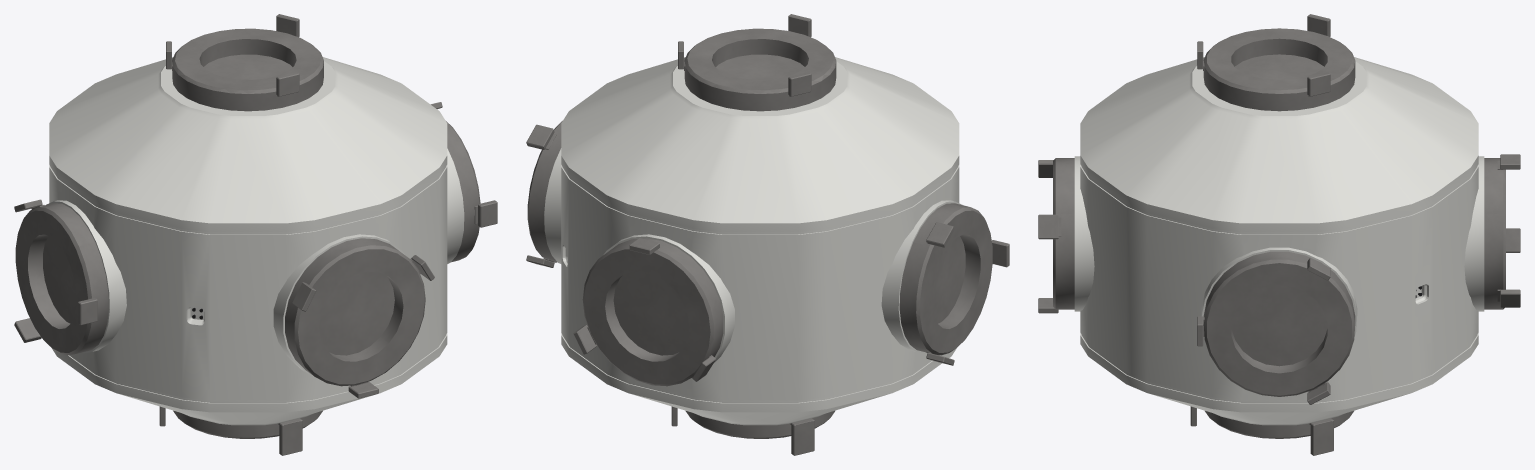
The model's file is ax_station_03_node6.glb.
The picture shows the model from 3 angles, left to right: view 1: azimuth 30°, elevation 25°; view 2: azimuth 150°, elevation 25°; view 3: azimuth 270°, elevation 25°; orthographic projection.
Parts seen in each view (by area): view 1: pressure_hull, port_4, port_3, port_top, hatch_door_6, port_1, port_3_pedestal, hatch_door_5, hatch_door_2, port_4_pedestal, port_bottom, port_1_pedestal (+5 smaller); view 2: pressure_hull, port_2, port_3, port_top, hatch_door_4, port_1, port_3_pedestal, hatch_door_5, hatch_door_2, port_2_pedestal, port_1_pedestal, port_bottom (+5 smaller); view 3: pressure_hull, port_1, port_top, hatch_door_3, port_4, port_2, port_2_pedestal, port_4_pedestal, hatch_door_2, port_bottom, port_2_petals, port_1_pedestal (+4 smaller).
Boxes of the visible parts, x1=… form: pressure_hull: x1=49, y1=57, x2=447, y2=425; port_4: x1=285, y1=238, x2=425, y2=386; port_3: x1=15, y1=203, x2=108, y2=355; port_top: x1=172, y1=28, x2=323, y2=111; hatch_door_6: x1=319, y1=271, x2=394, y2=355; port_1: x1=446, y1=121, x2=480, y2=262; port_3_pedestal: x1=46, y1=200, x2=126, y2=353; hatch_door_5: x1=43, y1=236, x2=75, y2=323; hatch_door_2: x1=203, y1=54, x2=292, y2=79; port_4_pedestal: x1=273, y1=234, x2=405, y2=377; port_bottom: x1=173, y1=410, x2=322, y2=438; port_1_pedestal: x1=447, y1=148, x2=464, y2=263; pressure_hull: x1=561, y1=57, x2=959, y2=425; port_2: x1=582, y1=238, x2=723, y2=386; port_3: x1=899, y1=203, x2=992, y2=355; port_top: x1=684, y1=28, x2=836, y2=111; hatch_door_4: x1=613, y1=271, x2=689, y2=355; port_1: x1=527, y1=121, x2=562, y2=261; port_3_pedestal: x1=881, y1=200, x2=962, y2=353; hatch_door_5: x1=932, y1=236, x2=965, y2=323; hatch_door_2: x1=716, y1=54, x2=804, y2=79; port_2_pedestal: x1=603, y1=234, x2=734, y2=362; port_1_pedestal: x1=544, y1=148, x2=561, y2=263; port_bottom: x1=685, y1=410, x2=834, y2=438; pressure_hull: x1=1080, y1=57, x2=1478, y2=425; port_1: x1=1203, y1=251, x2=1355, y2=396; port_top: x1=1203, y1=28, x2=1355, y2=111; hatch_door_3: x1=1231, y1=285, x2=1327, y2=366; port_4: x1=1053, y1=158, x2=1074, y2=309; port_2: x1=1484, y1=158, x2=1505, y2=309; port_2_pedestal: x1=1464, y1=156, x2=1484, y2=311; port_4_pedestal: x1=1074, y1=156, x2=1094, y2=311; hatch_door_2: x1=1235, y1=54, x2=1323, y2=79; port_bottom: x1=1205, y1=411, x2=1353, y2=438; port_2_petals: x1=1497, y1=154, x2=1520, y2=307; port_1_pedestal: x1=1201, y1=247, x2=1357, y2=336.
Size of the model in its own units: 5.09 by 4.37 by 5.09.
3 materials, 1 textured.
